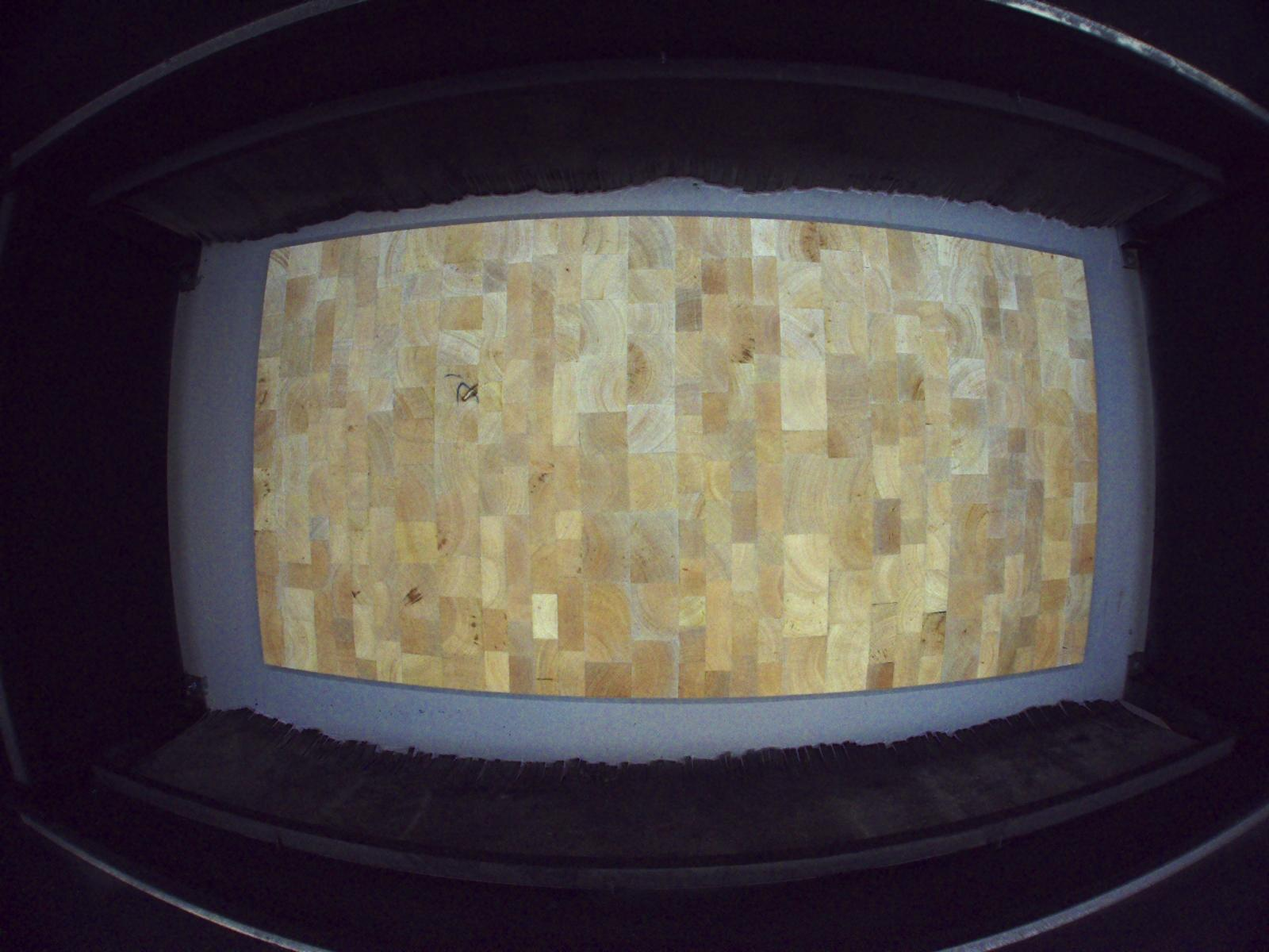nudillo: (460, 382, 478, 402)
